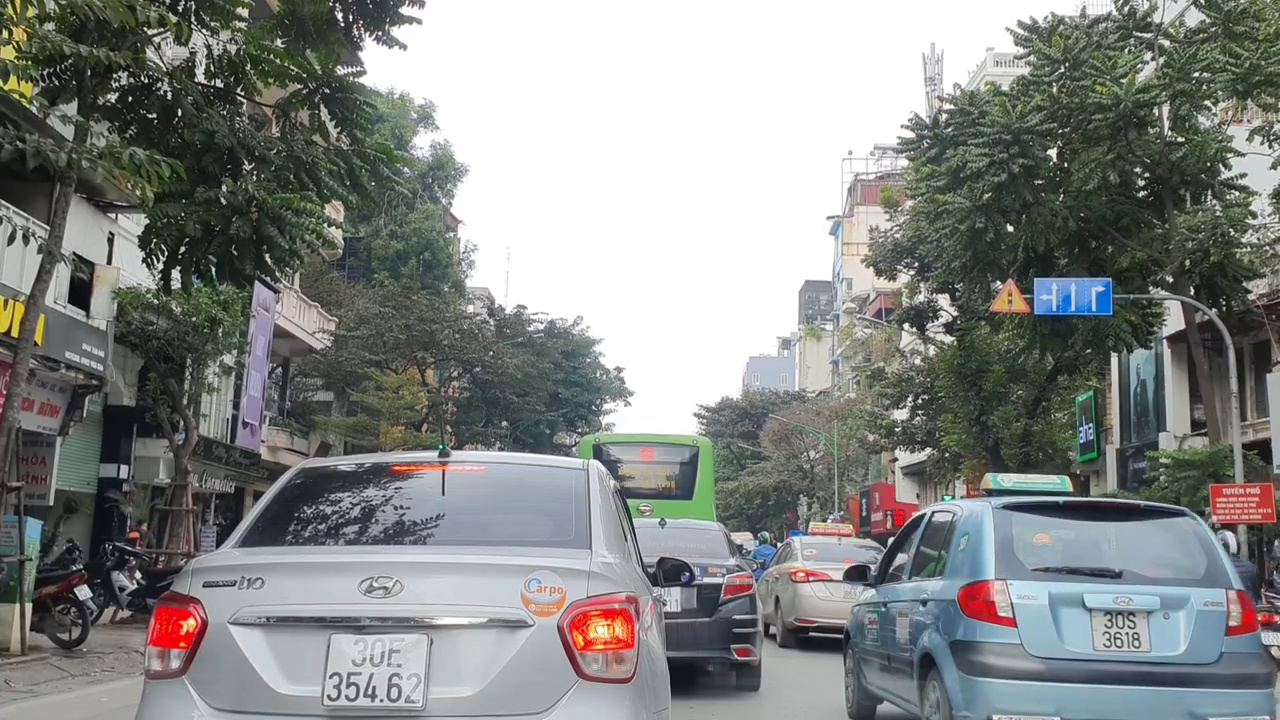vehicle-plate: (1089, 605, 1160, 665)
